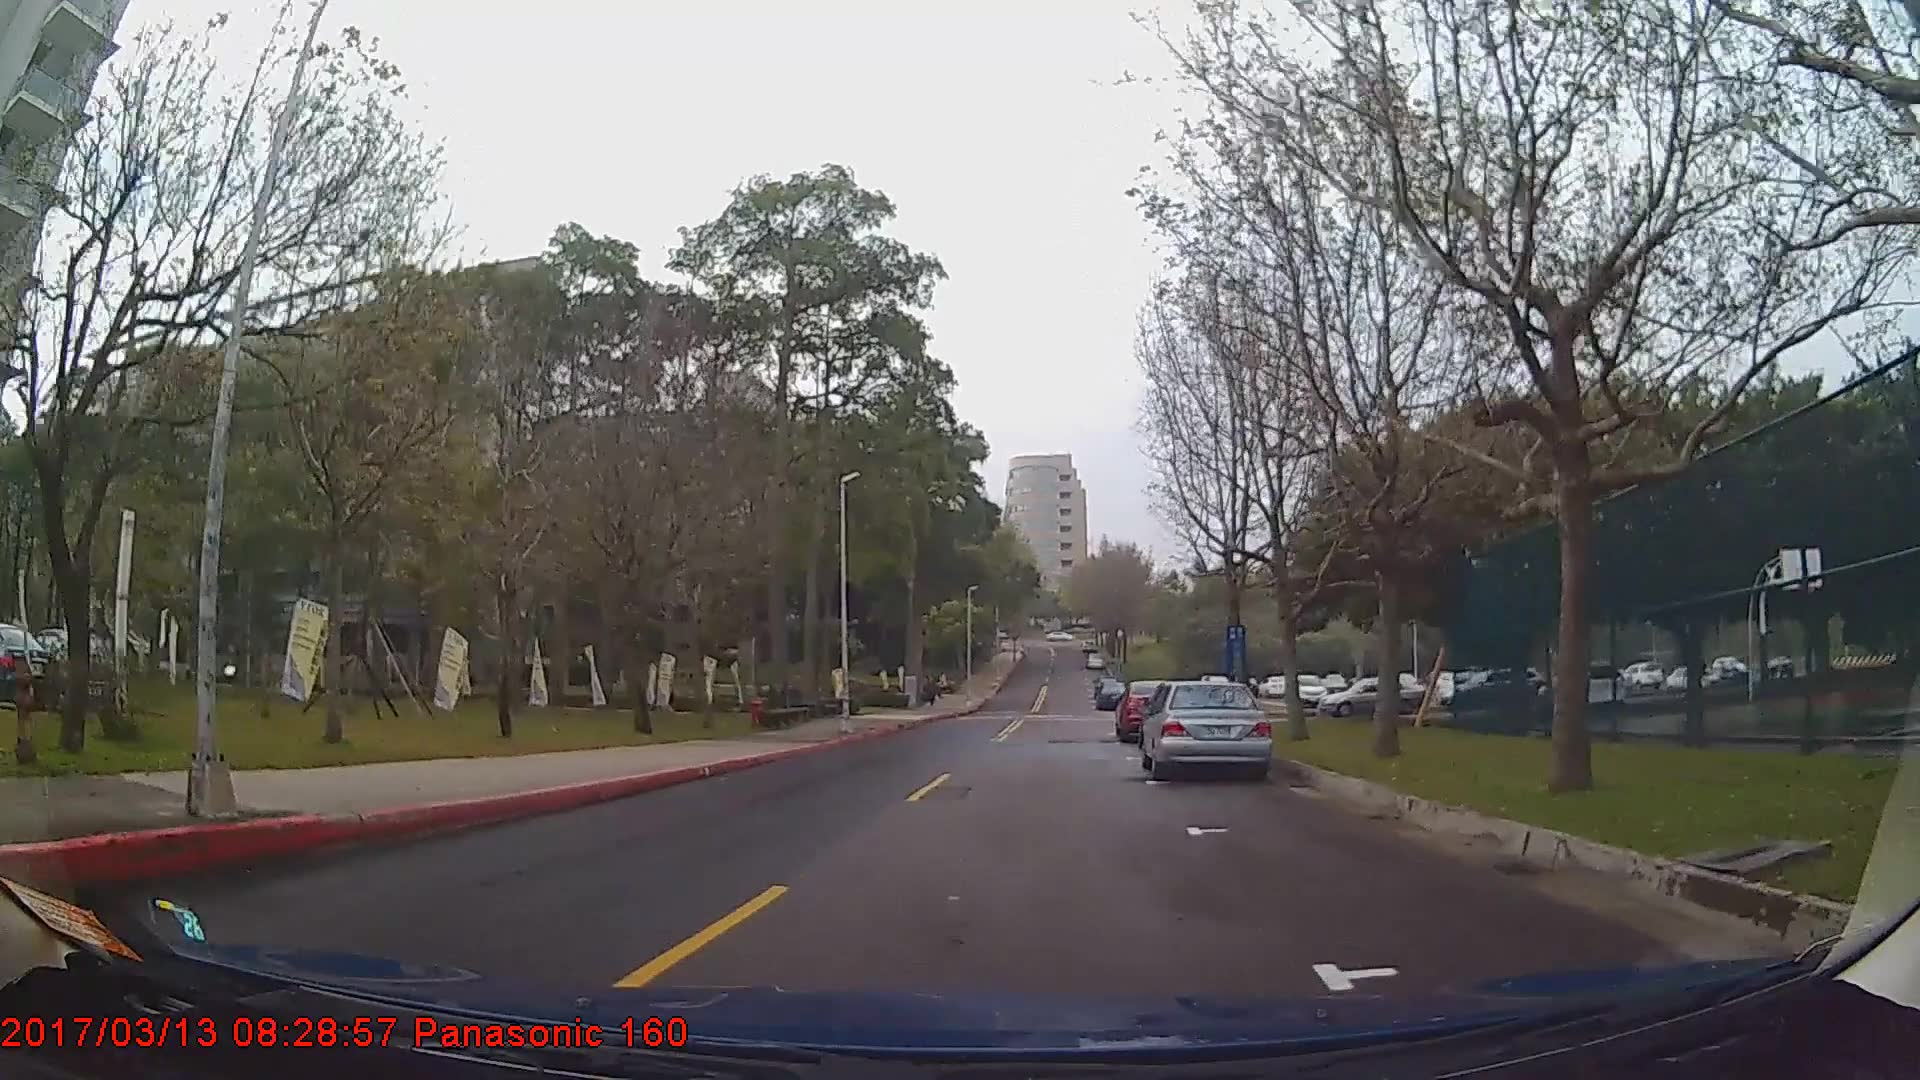vehicle: (1139, 680, 1273, 782), (1317, 671, 1429, 717), (1113, 676, 1183, 745), (1095, 678, 1130, 709)
